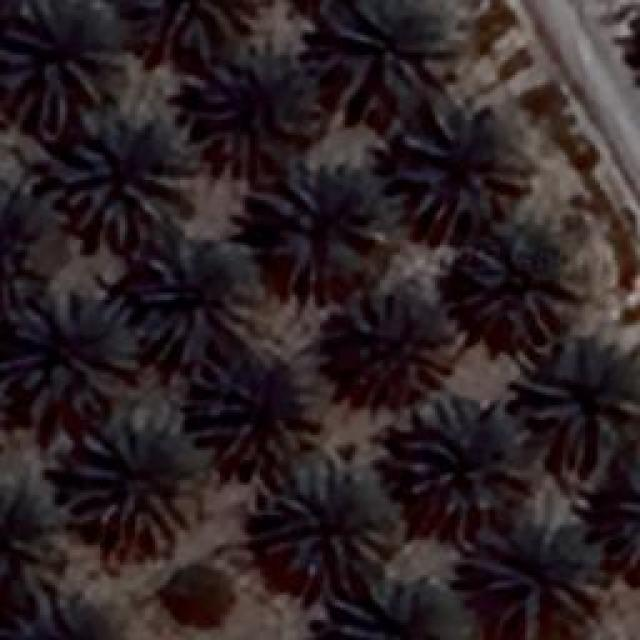PalmTree: (113, 44, 620, 518), (40, 110, 113, 618), (58, 112, 198, 245), (59, 412, 192, 546), (255, 458, 400, 580), (390, 392, 528, 518), (190, 40, 320, 168), (400, 103, 528, 230), (512, 340, 638, 465), (478, 512, 600, 640), (132, 245, 258, 360), (188, 365, 322, 473), (5, 292, 120, 410), (340, 290, 458, 402), (460, 215, 570, 335), (324, 0, 458, 95), (2, 0, 100, 125), (275, 170, 380, 282), (326, 577, 463, 640), (0, 488, 65, 612), (149, 0, 259, 58), (0, 593, 127, 640), (0, 185, 48, 298), (162, 558, 230, 622)
